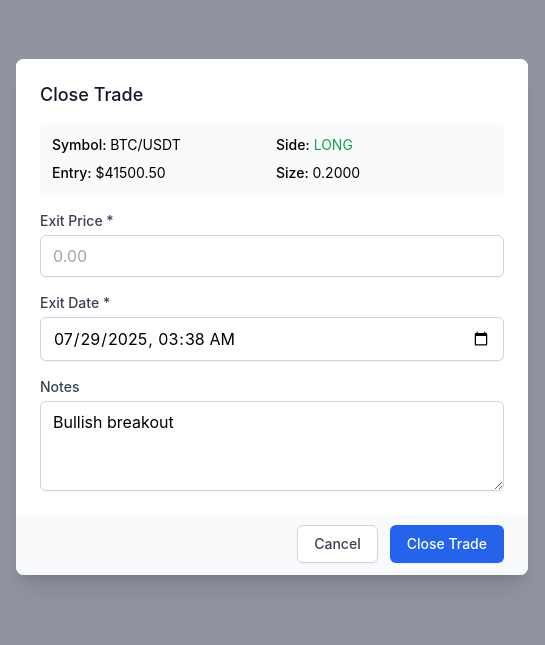
it: CloseTradeModal › should show validation error for invalid exit price
Type "-100" into the number field labelled "Exit Price *". click: {"x": 272, "y": 256}
box: [40,235,504,277]
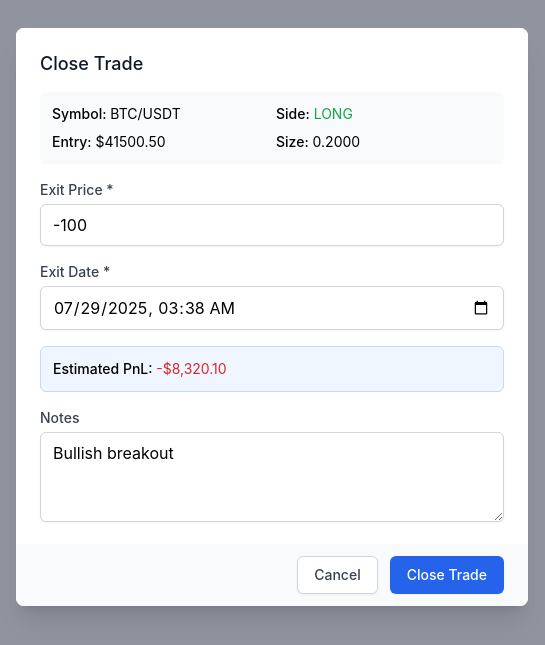
Click the button "Close Trade". click: {"x": 447, "y": 575}
box: [390,556,504,594]
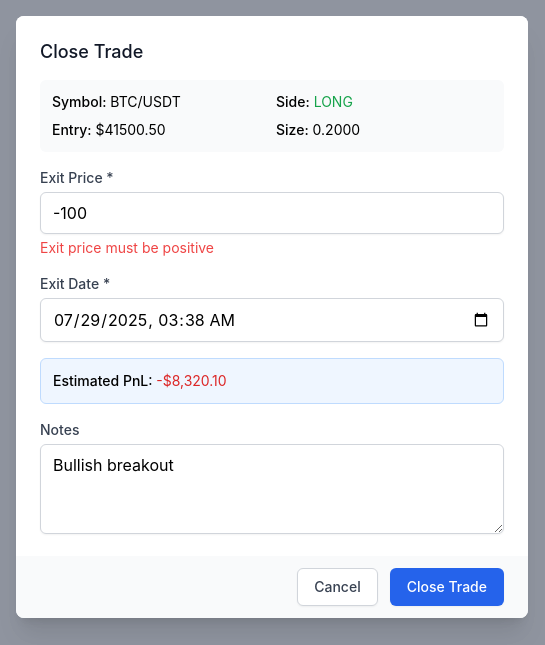
Now the text "Exit price must be positive" is shown, box [40,239,214,256]
